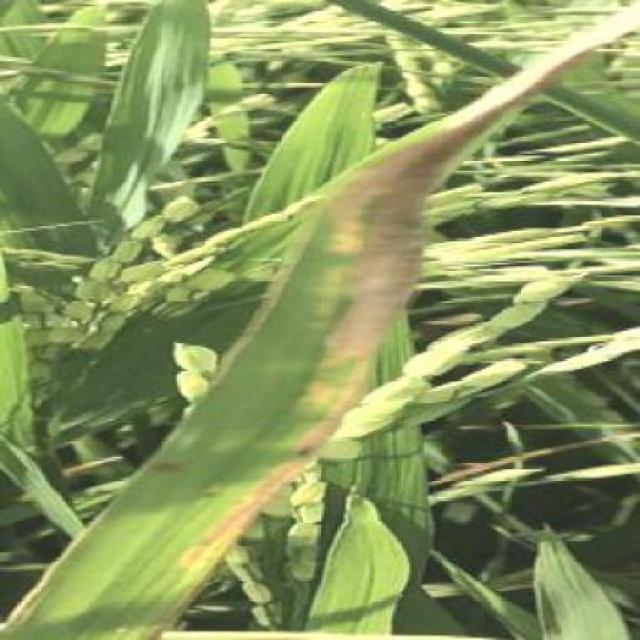Brown_Spot: (228, 152, 418, 400)
